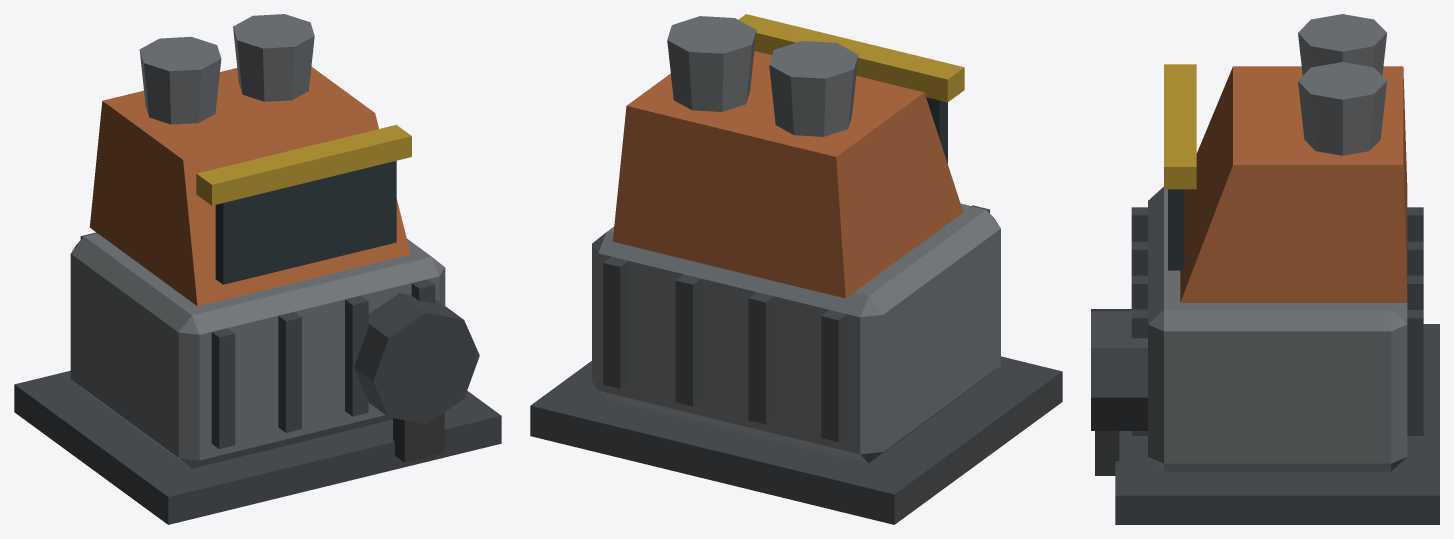
File: upg_turbo.glb
3 renders of one model, left to right at view 1: azimuth 30°, elevation 25°; view 2: azimuth 150°, elevation 25°; view 3: azimuth 270°, elevation 25°, orthographic. The views are drawn at different scales.
Visible parts, largest first — view 1: turbo; view 2: turbo; view 3: turbo.
Part boxes in pixels (box(x1,y1,x2,y2)): turbo: box(14, 14, 501, 524); turbo: box(530, 14, 1062, 524); turbo: box(1091, 14, 1439, 524).
Bounding box in the file's own units: 0.5 × 0.52 × 0.43.
